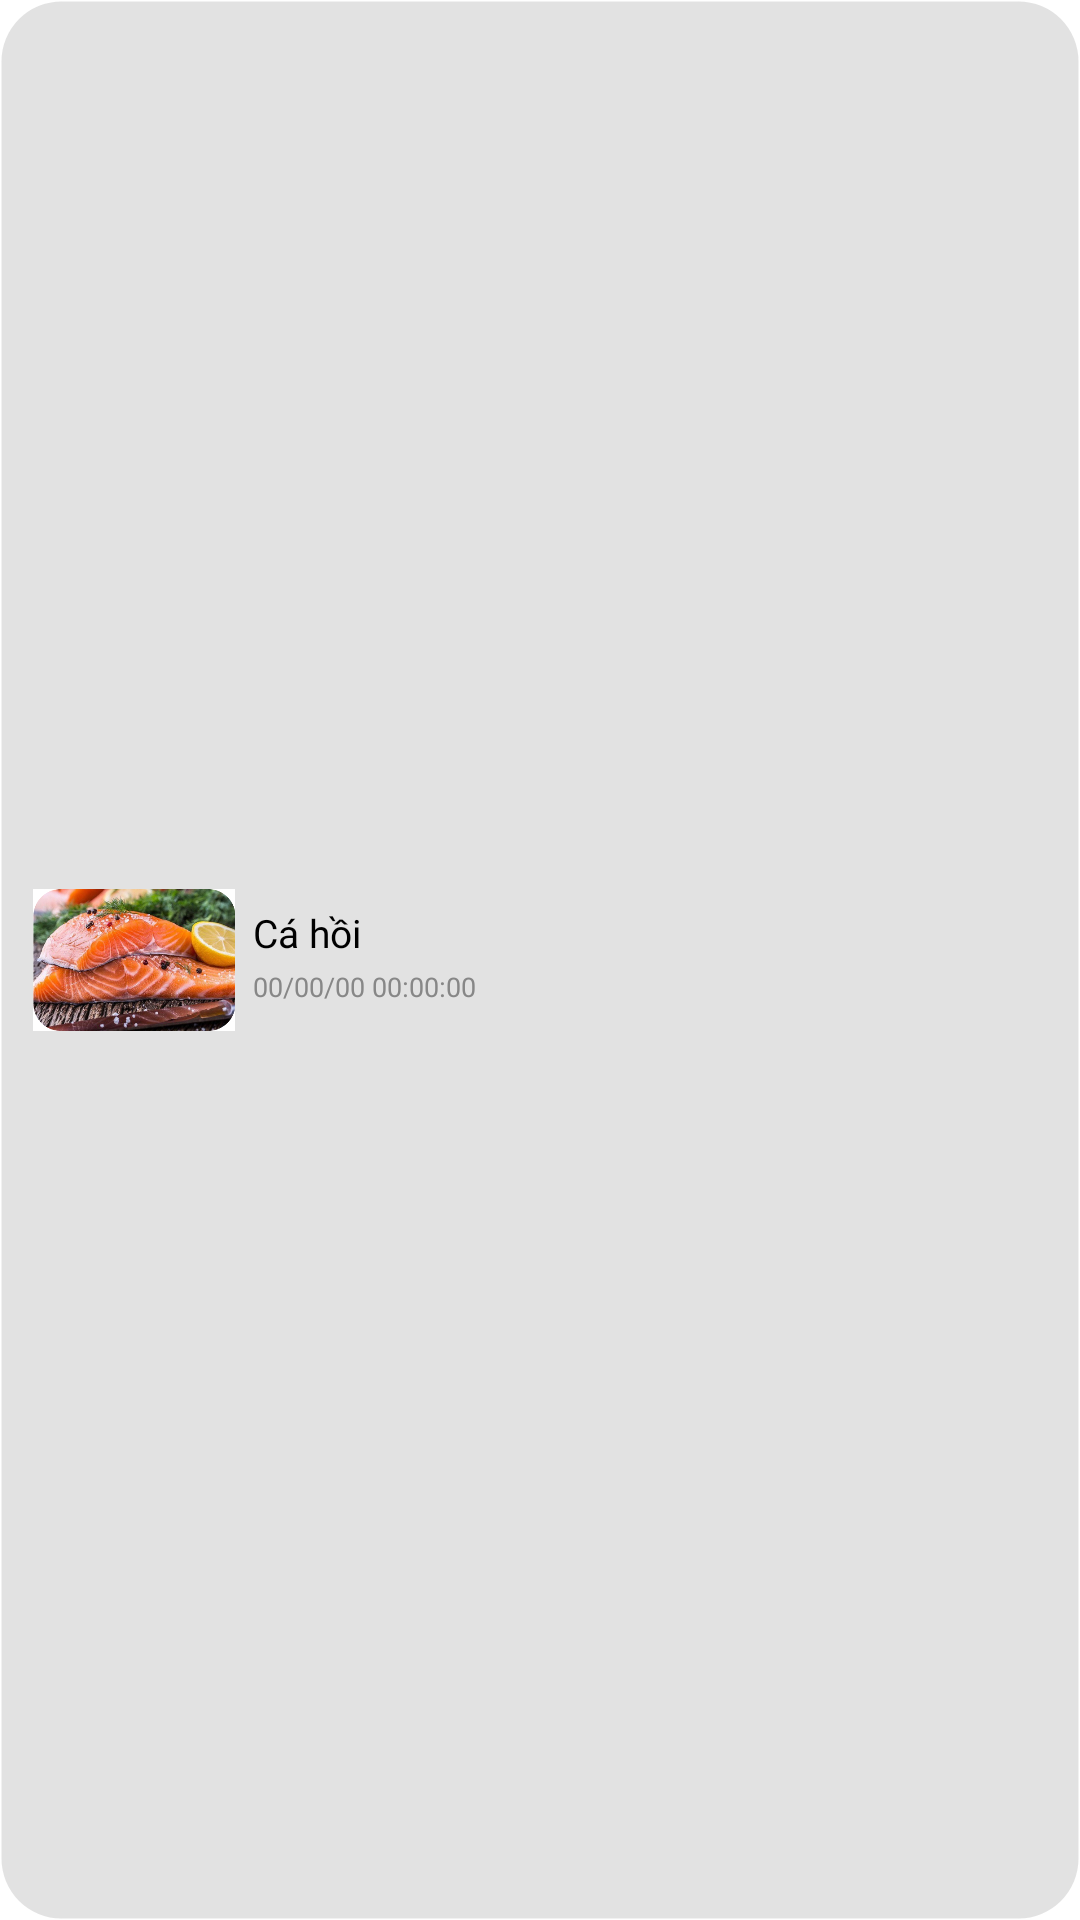

Named icons in this screenshot (1080×1920) and their bounding boxes, [x1,y1,x2,y2]:
mockup product item: [33,889,235,1031]
